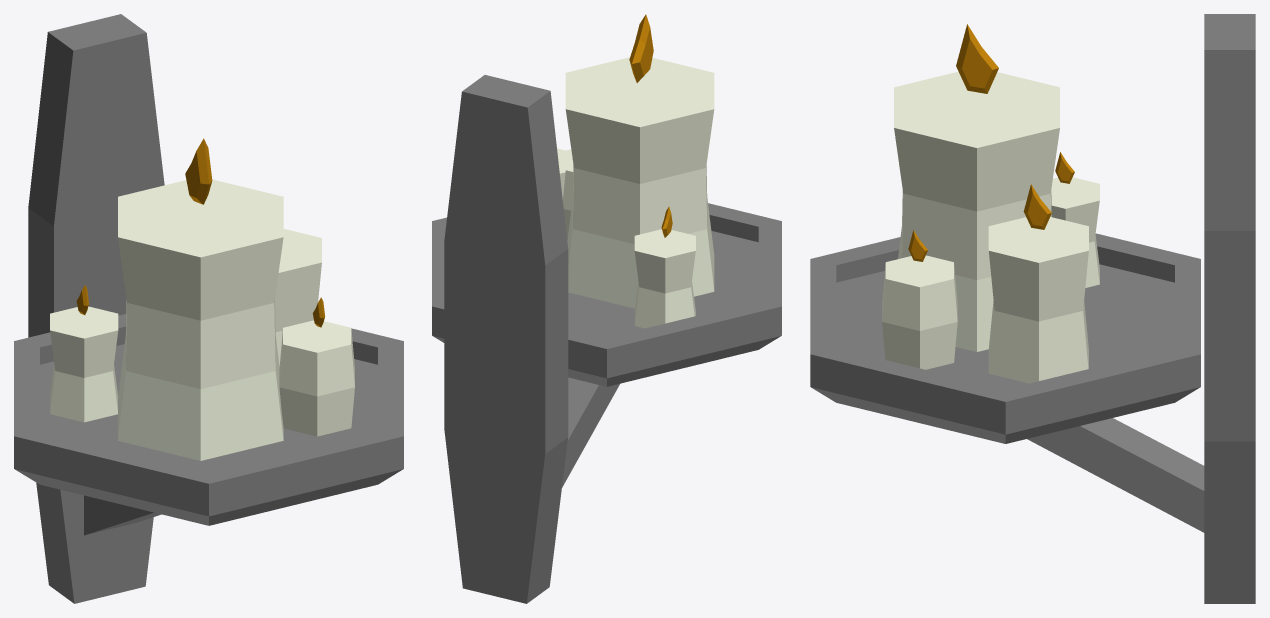
The model's file is Wall candle.fbx.
The picture shows the model from 3 angles, left to right: view 1: azimuth 30°, elevation 25°; view 2: azimuth 150°, elevation 25°; view 3: azimuth 270°, elevation 25°; orthographic projection. The views are drawn at different scales.
Parts seen in each view (by area): view 1: Cylinder005; view 2: Cylinder005; view 3: Cylinder005.
Part boxes in pixels (bbox=[...]): Cylinder005: bbox=[14, 14, 403, 603]; Cylinder005: bbox=[432, 14, 781, 603]; Cylinder005: bbox=[810, 14, 1255, 603].
Size of the model in its own units: 41.42 by 56.21 by 40.9.
Materials: 1 (1 with a texture image).
